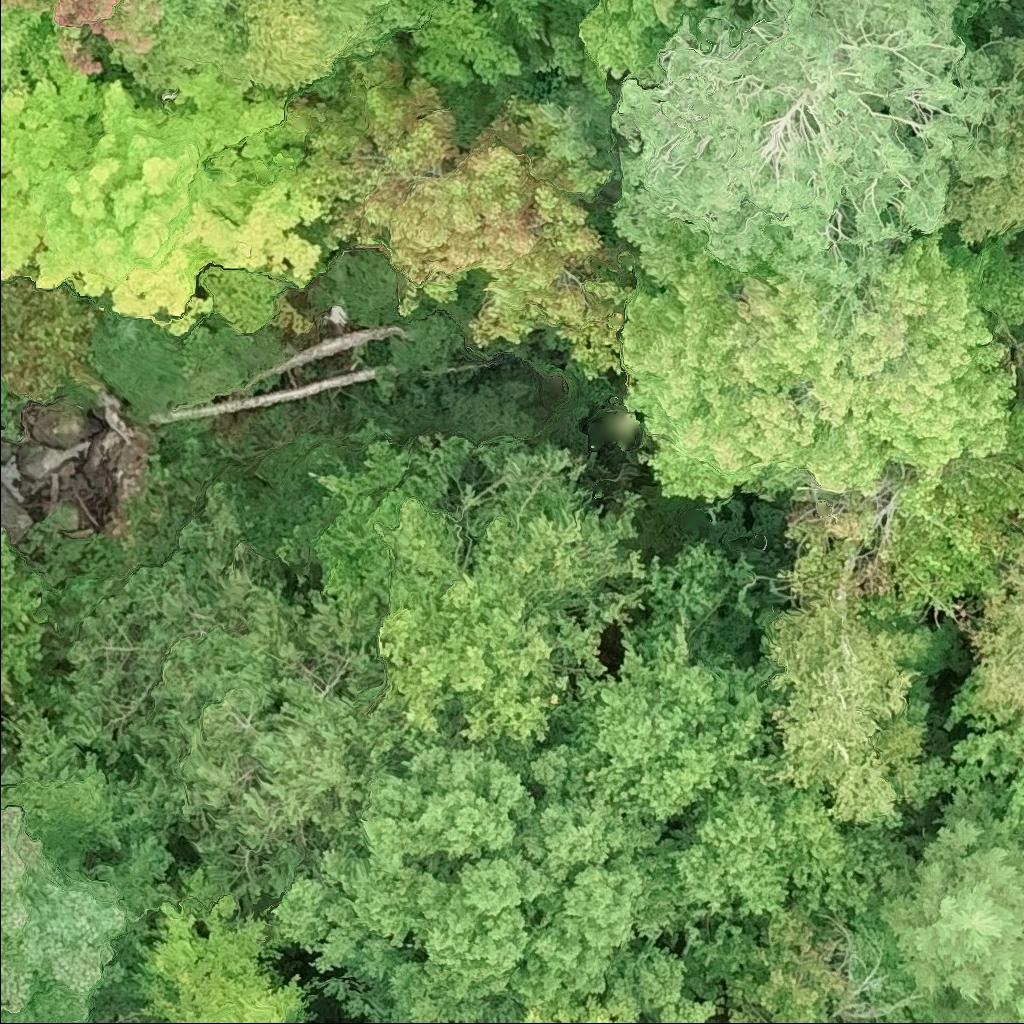crown: (62, 486, 413, 895), (278, 429, 650, 757), (611, 0, 1023, 291), (269, 735, 702, 1006), (620, 224, 1023, 504), (295, 53, 631, 378), (0, 60, 325, 322), (551, 582, 779, 821), (756, 582, 957, 831), (877, 782, 1023, 1023), (867, 400, 1023, 622), (0, 802, 128, 1009), (670, 745, 789, 921), (208, 0, 403, 94), (948, 505, 1023, 727), (0, 269, 111, 406), (369, 971, 645, 1023), (105, 0, 242, 104), (0, 0, 162, 76), (573, 0, 712, 84), (405, 0, 526, 96), (90, 299, 187, 418), (944, 713, 1023, 841), (948, 115, 1023, 245), (359, 0, 460, 32), (1011, 232, 1023, 260), (1017, 18, 1023, 55), (1016, 992, 1023, 1023), (195, 854, 201, 859), (1023, 329, 1023, 329)
